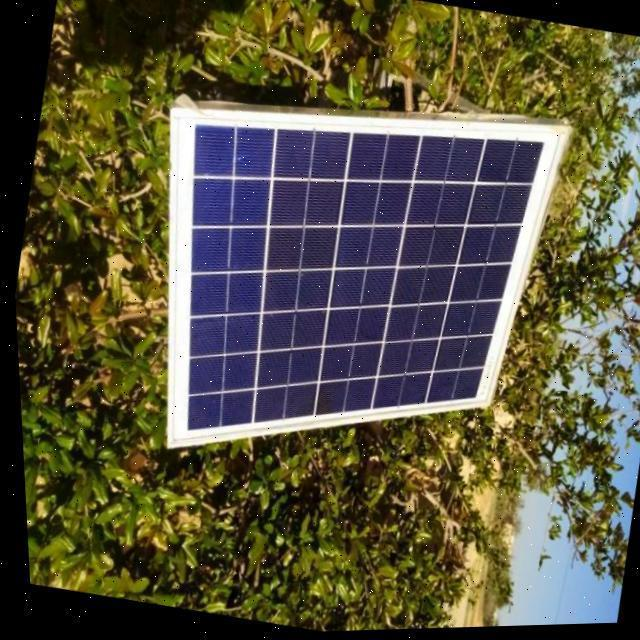Normal Solar Panel: (106, 54, 580, 523)
